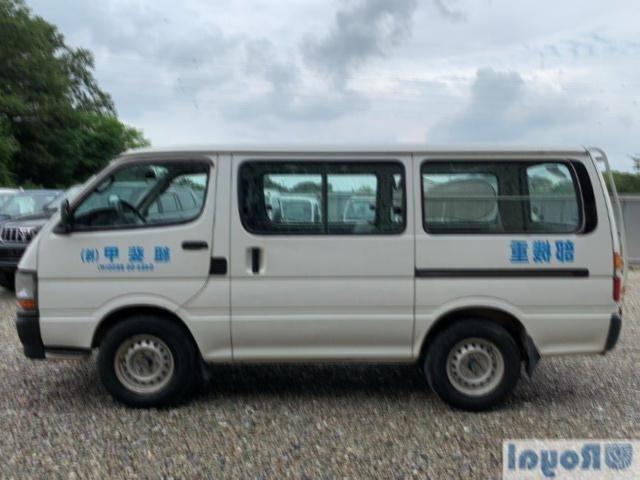van: (14, 133, 628, 410)
